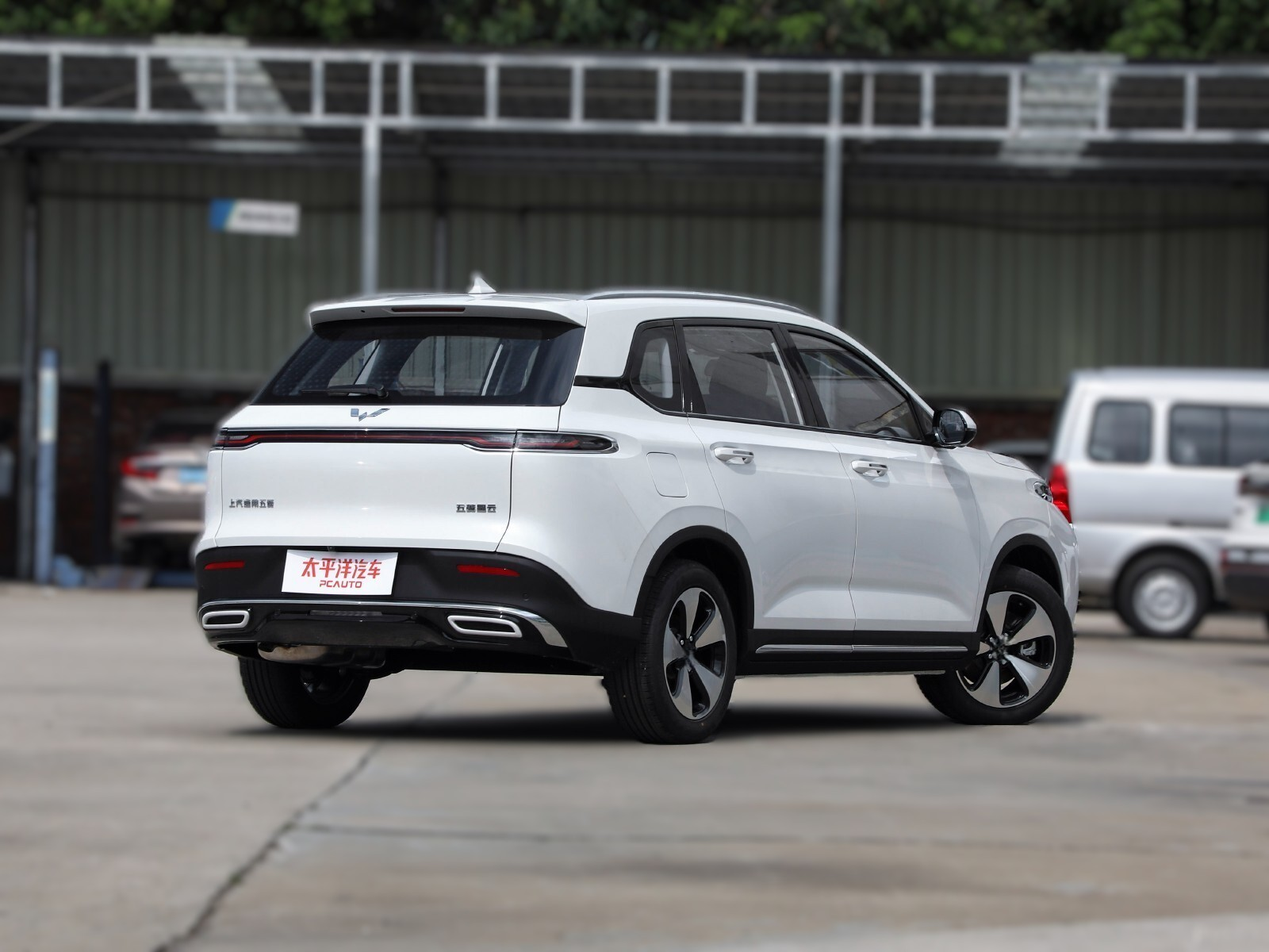SGMW: (351, 409, 389, 421)
